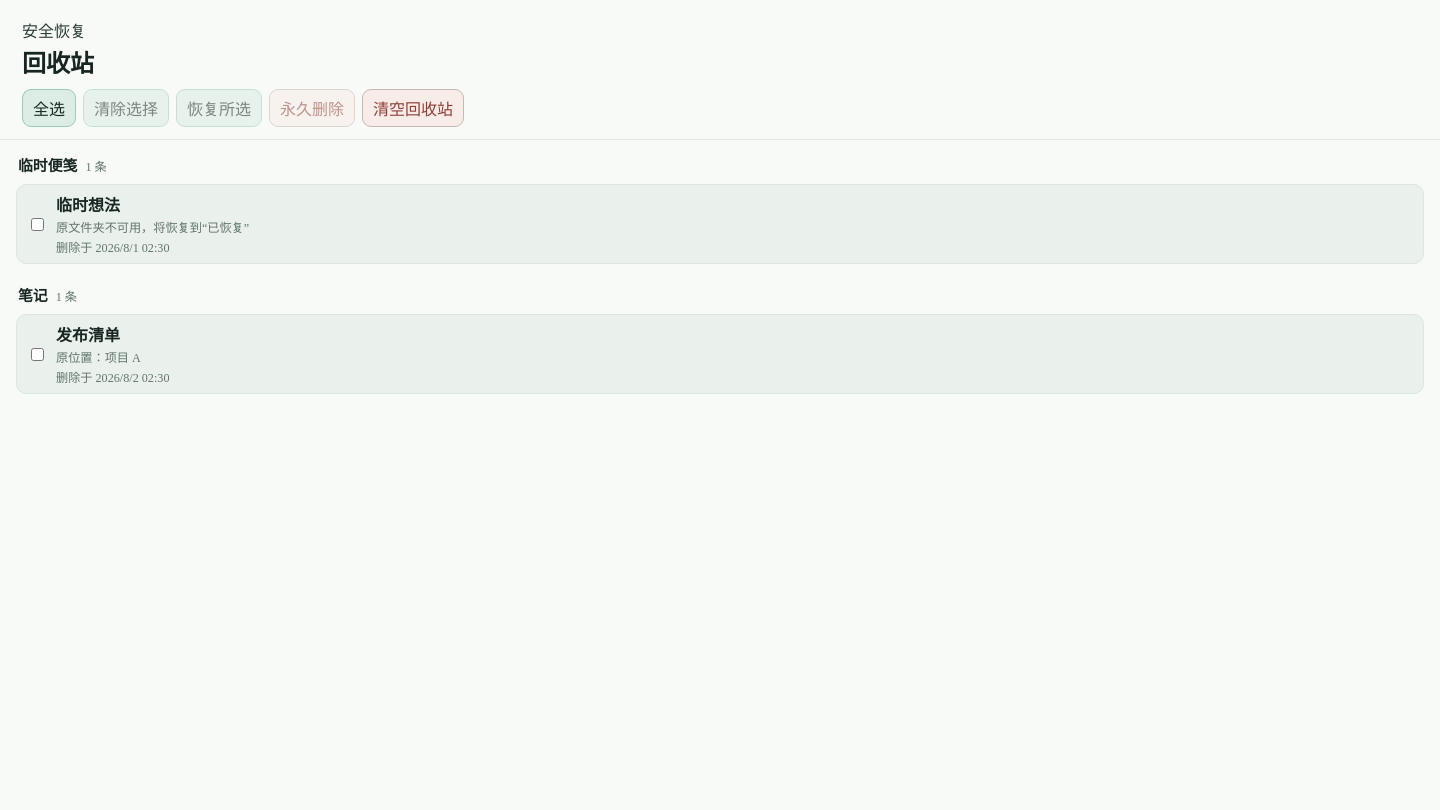
Scenario: TrashView › permanently deletes selected entries only after confirmation
Click the checkbox named "选择 发布清单". click: coordinates (38, 354)
box: [31,348,44,360]
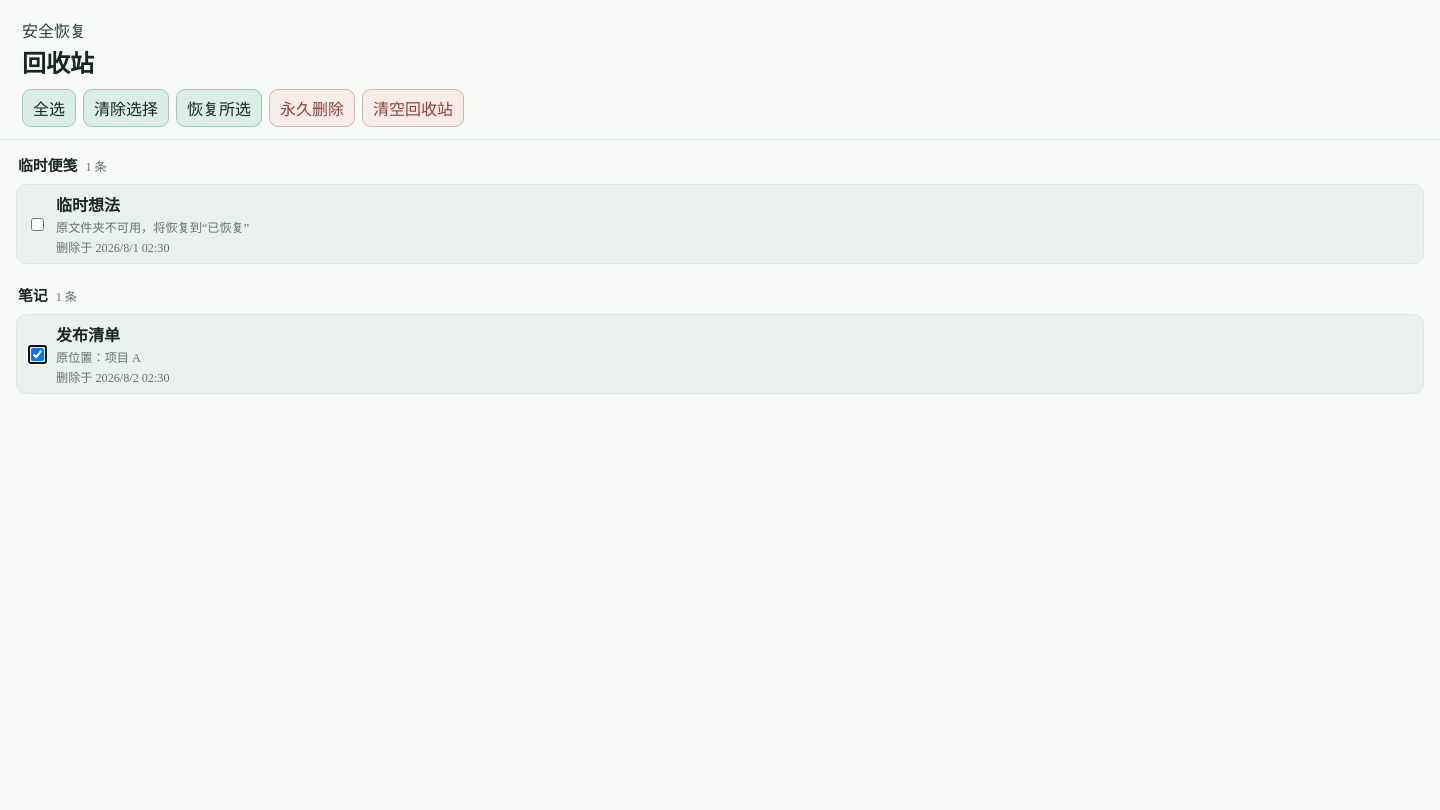
Click the button "永久删除". click: coordinates (312, 108)
box: [269,89,355,127]
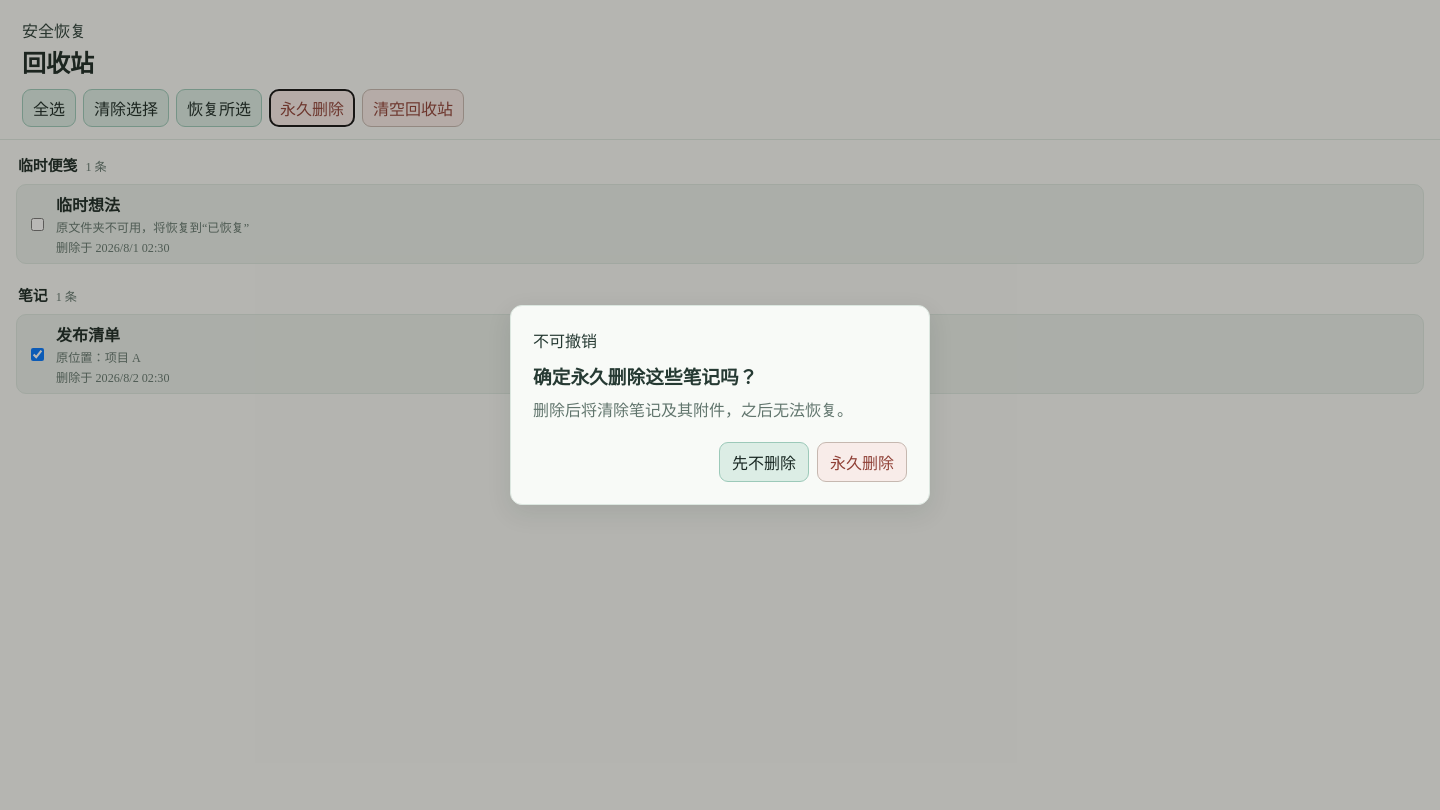
Now the dialog shows "删除后将清除笔记及其附件，之后无法恢复", box [533,402,853,419]
Click the button "永久删除". click: coordinates (862, 462)
box: [817,442,907,482]
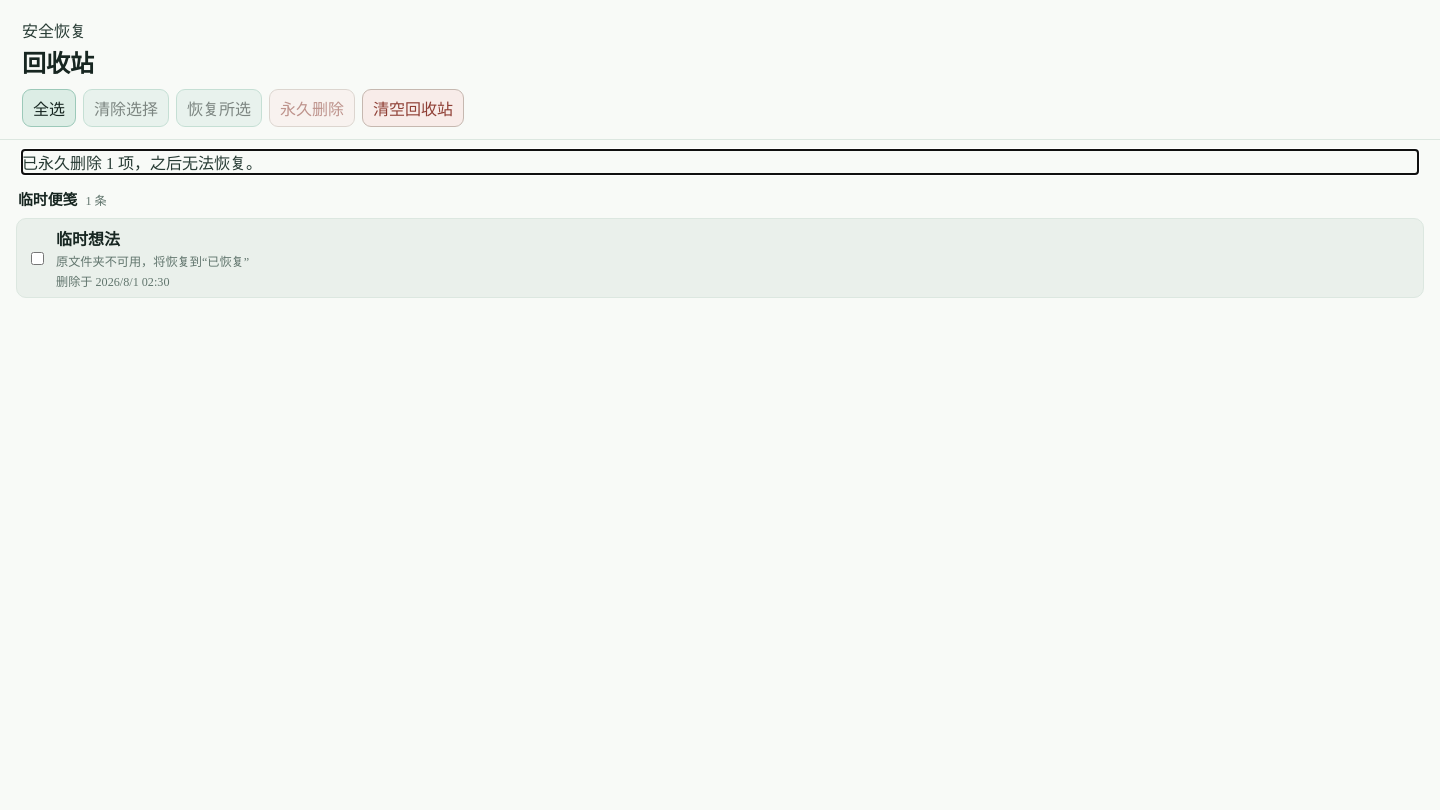
Now the text "已永久删除 1 项，之后无法恢复。" is shown, box [22,155,262,172]
